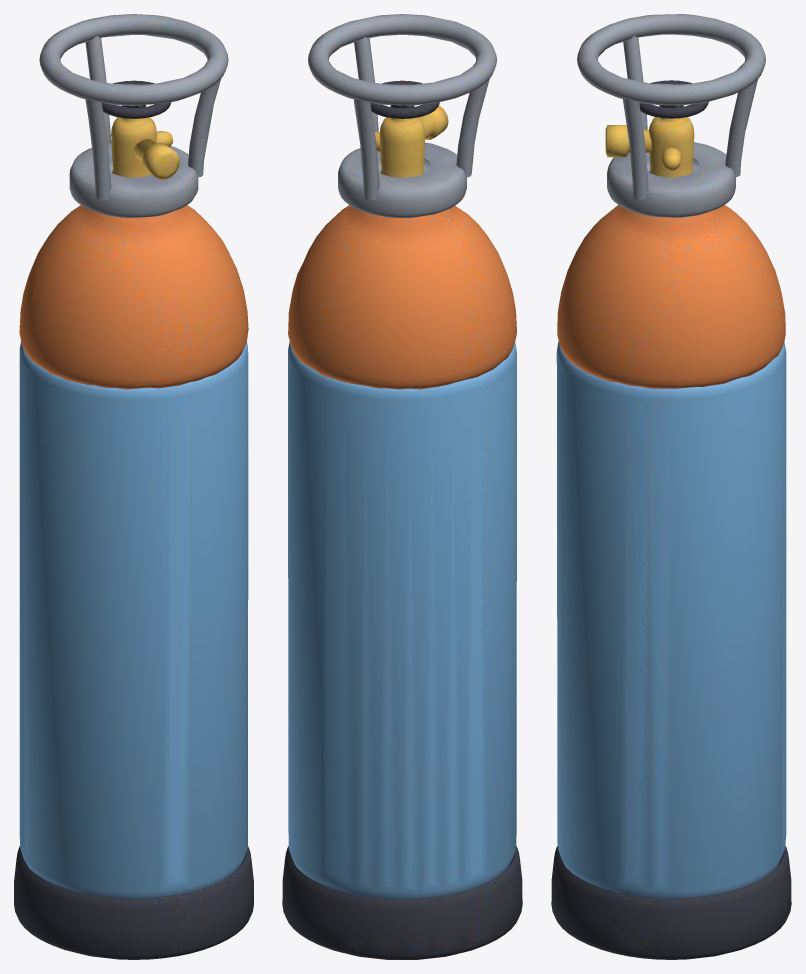
The model's file is gas-cylinder.glb.
3 renders of one model, left to right at view 1: azimuth 30°, elevation 25°; view 2: azimuth 150°, elevation 25°; view 3: azimuth 270°, elevation 25°, orthographic.
Visible parts, largest first — view 1: gas-cylinder_body; view 2: gas-cylinder_body; view 3: gas-cylinder_body.
Part boxes in pixels (x1,y1,x2,y2): gas-cylinder_body: (14, 14, 253, 959); gas-cylinder_body: (282, 14, 522, 959); gas-cylinder_body: (551, 14, 791, 959).
Bounding box in the file's own units: 0.2512 × 0.996 × 0.2512.
1 material, 1 textured.
